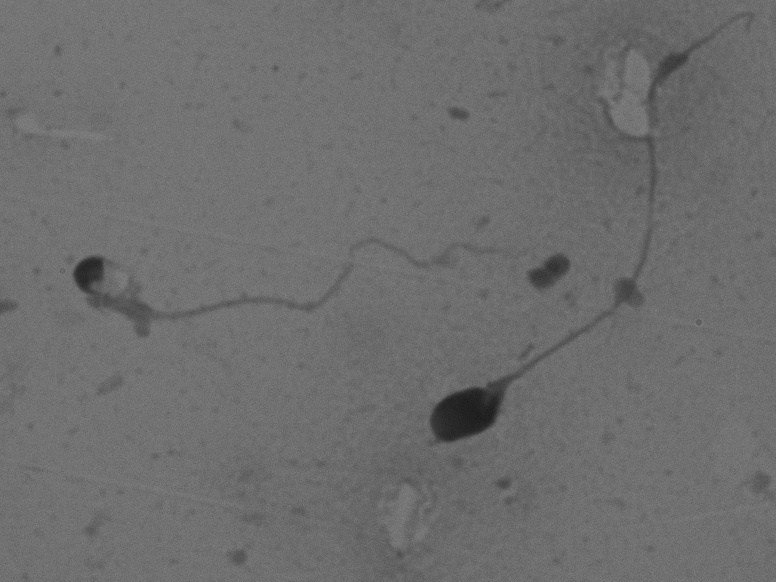Abnormal: (397, 8, 762, 460), (35, 194, 518, 345)
